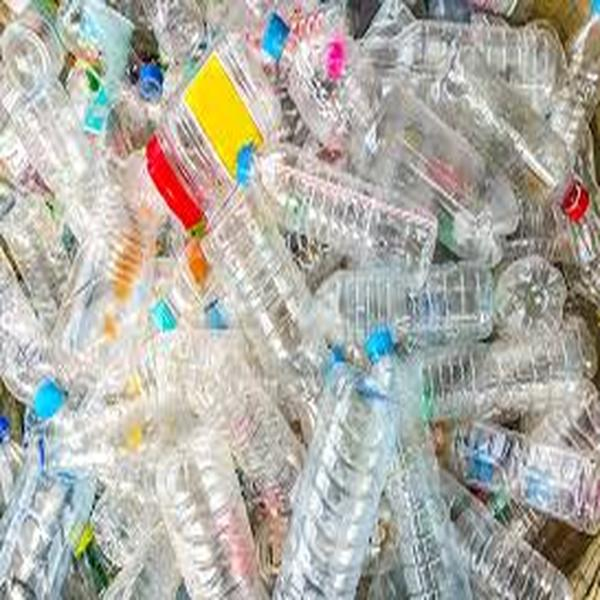tutuma: (273, 354, 405, 599), (233, 142, 444, 288)
